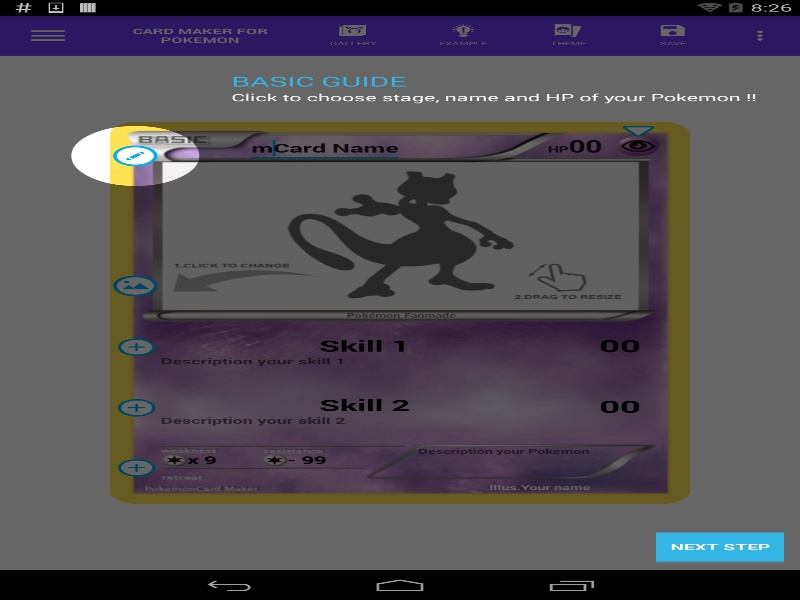Button: (656, 532, 784, 562), (10, 15, 85, 55)
Input: (246, 133, 404, 162)
